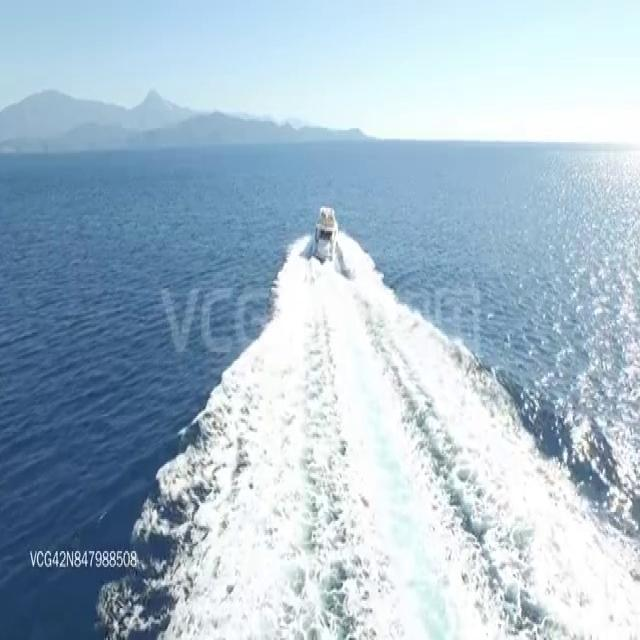houseboat: (312, 200, 339, 263)
